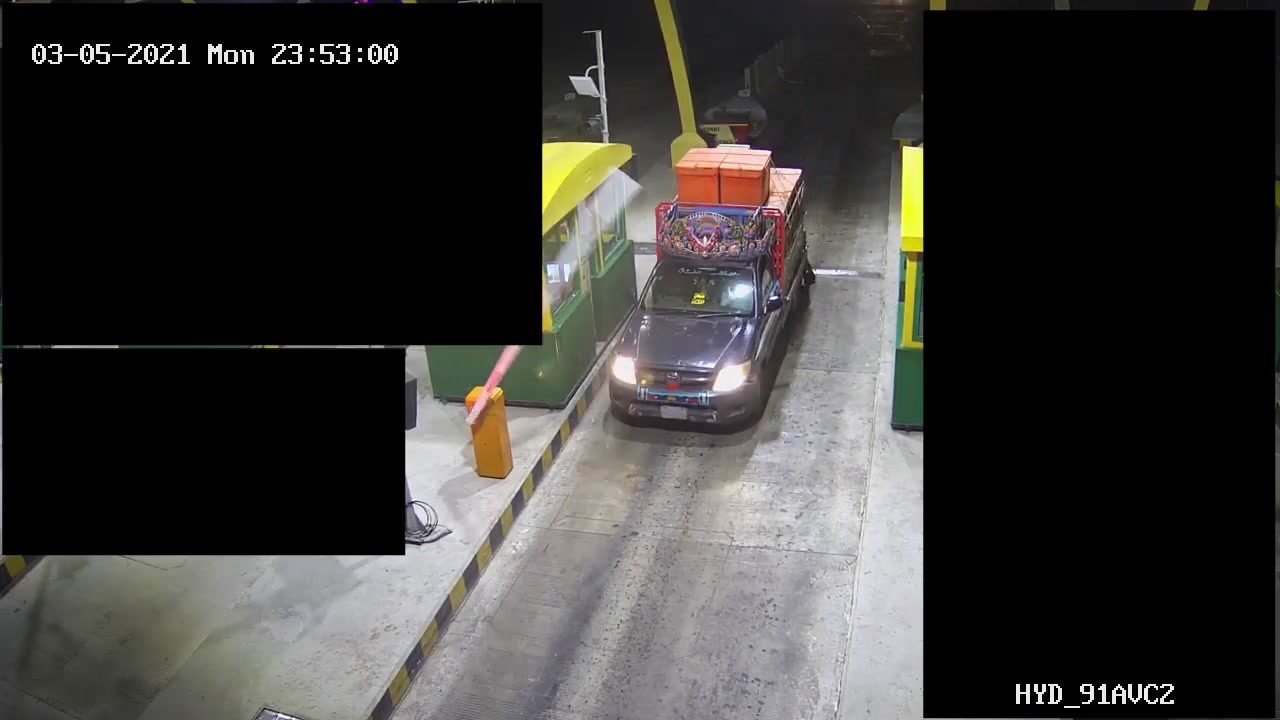F2: (598, 141, 823, 438)
